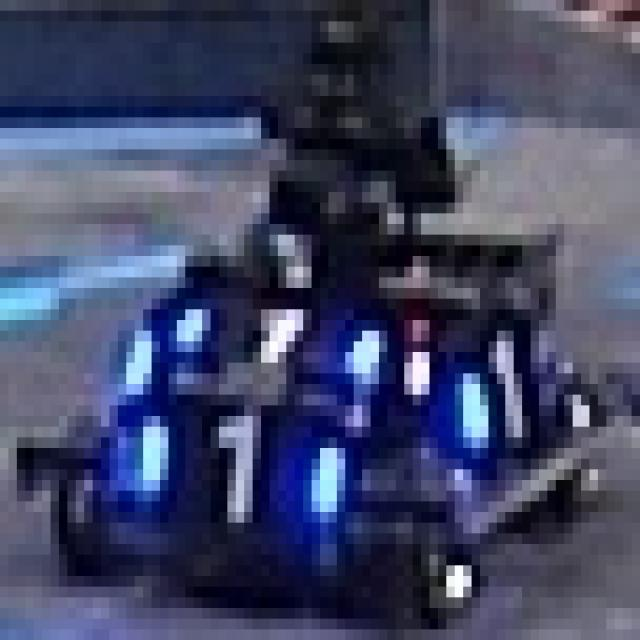B1: (106, 384, 350, 544), (139, 245, 392, 384), (425, 298, 543, 458)
